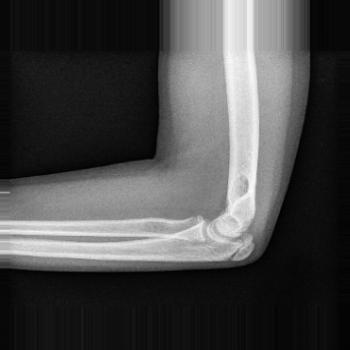Fracture: (230, 231, 261, 266)
